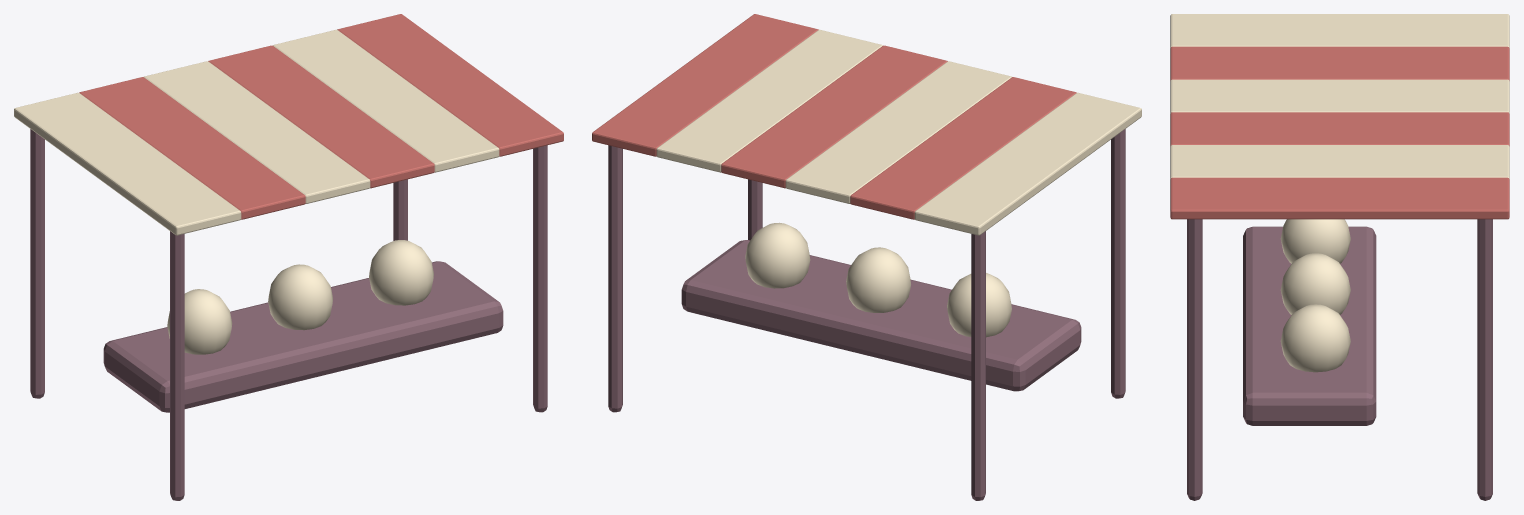
File: market.glb
The picture shows the model from 3 angles, left to right: view 1: azimuth 30°, elevation 25°; view 2: azimuth 150°, elevation 25°; view 3: azimuth 270°, elevation 25°; orthographic projection. The views are drawn at different scales.
Visible parts, largest first — view 1: Market counter, Striped canopy, Striped canopy.004, Striped canopy.002, Striped canopy.005, Striped canopy.001, Striped canopy.003, Post, Post.002, Post.001, Grain sack.002, Grain sack.001 (+2 smaller); view 2: Market counter, Striped canopy, Striped canopy.004, Striped canopy.002, Striped canopy.005, Striped canopy.001, Striped canopy.003, Post.001, Post.003, Post, Grain sack.002, Grain sack.001 (+2 smaller); view 3: Market counter, Striped canopy.005, Striped canopy.002, Striped canopy.001, Striped canopy.003, Striped canopy, Striped canopy.004, Post.002, Post.003, Grain sack.002, Grain sack.001, Grain sack.
Part boxes in pixels (<box>): Market counter: <box>103,261,503,412</box>; Striped canopy: <box>14,92,241,235</box>; Striped canopy.004: <box>273,29,499,172</box>; Striped canopy.002: <box>144,61,370,203</box>; Striped canopy.005: <box>337,14,563,156</box>; Striped canopy.001: <box>79,77,305,219</box>; Striped canopy.003: <box>208,45,434,188</box>; Post: <box>170,231,184,500</box>; Post.002: <box>533,145,547,412</box>; Post.001: <box>30,129,44,398</box>; Grain sack.002: <box>369,240,433,305</box>; Grain sack.001: <box>268,264,332,330</box>; Market counter: <box>681,240,1081,391</box>; Striped canopy: <box>914,92,1141,235</box>; Striped canopy.004: <box>656,29,882,172</box>; Striped canopy.002: <box>785,61,1011,203</box>; Striped canopy.005: <box>592,14,818,156</box>; Striped canopy.001: <box>850,77,1076,219</box>; Striped canopy.003: <box>721,45,947,188</box>; Post.001: <box>971,231,985,500</box>; Post.003: <box>608,145,622,412</box>; Post: <box>1111,129,1125,398</box>; Grain sack.002: <box>745,222,810,288</box>; Grain sack.001: <box>846,247,910,312</box>; Market counter: <box>1243,226,1376,425</box>; Striped canopy.005: <box>1170,177,1509,219</box>; Striped canopy.002: <box>1170,79,1509,113</box>; Striped canopy.001: <box>1170,46,1509,80</box>; Striped canopy.003: <box>1170,112,1509,146</box>; Striped canopy: <box>1170,14,1509,47</box>; Striped canopy.004: <box>1170,145,1509,178</box>; Post.002: <box>1187,219,1202,500</box>; Post.003: <box>1477,219,1492,500</box>; Grain sack.002: <box>1280,304,1350,372</box>; Grain sack.001: <box>1280,253,1350,314</box>; Grain sack: <box>1280,219,1350,263</box>.
Bounding box in the file's own units: 3.85 × 2.71 × 2.8.
